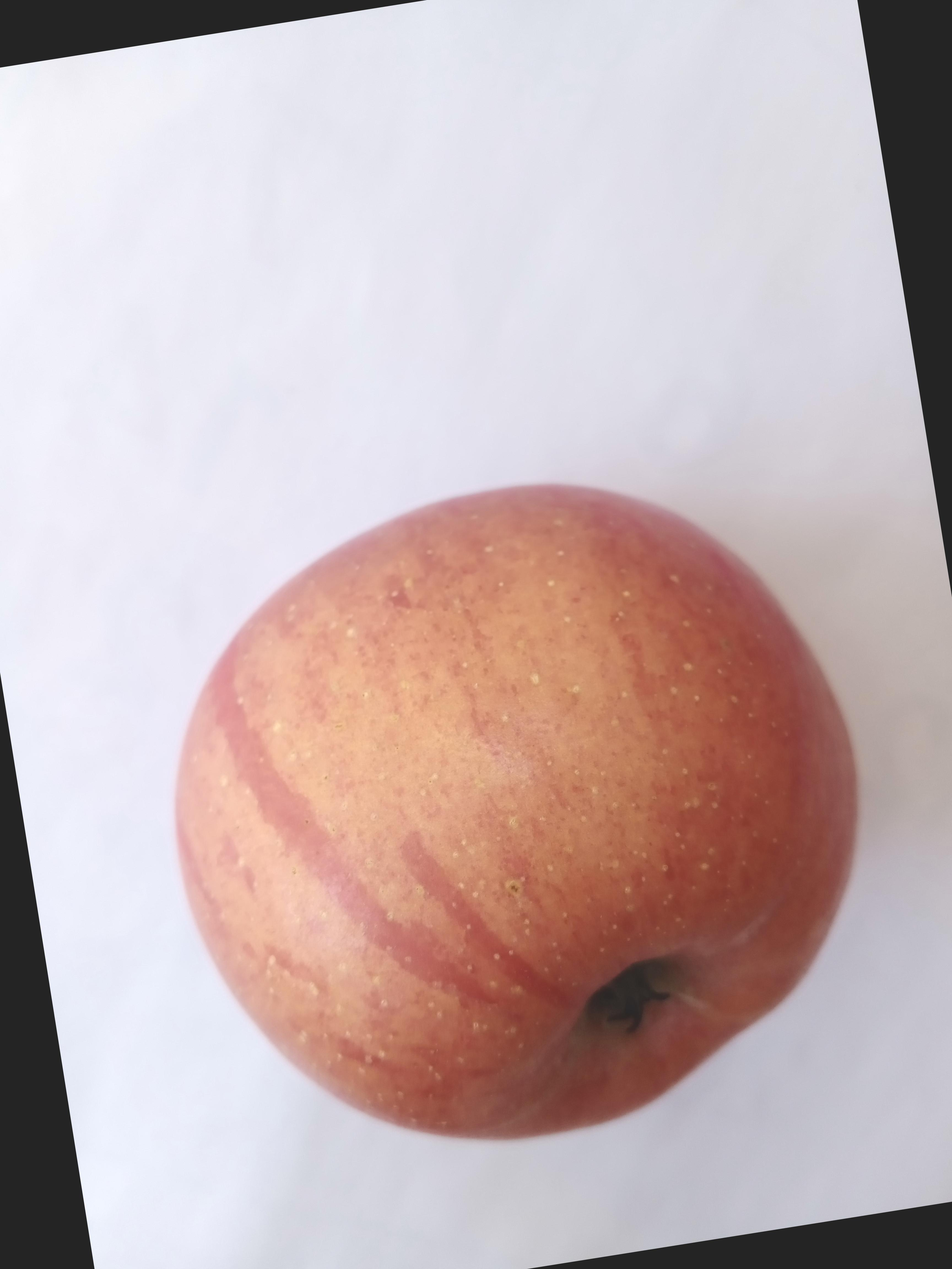Apple Ripe: (0, 522, 818, 1269)
